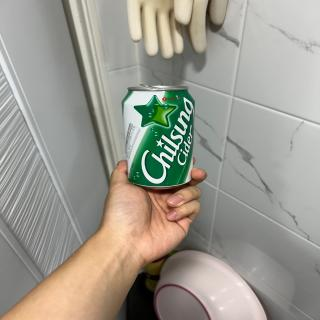cocacola: (118, 83, 198, 193)
